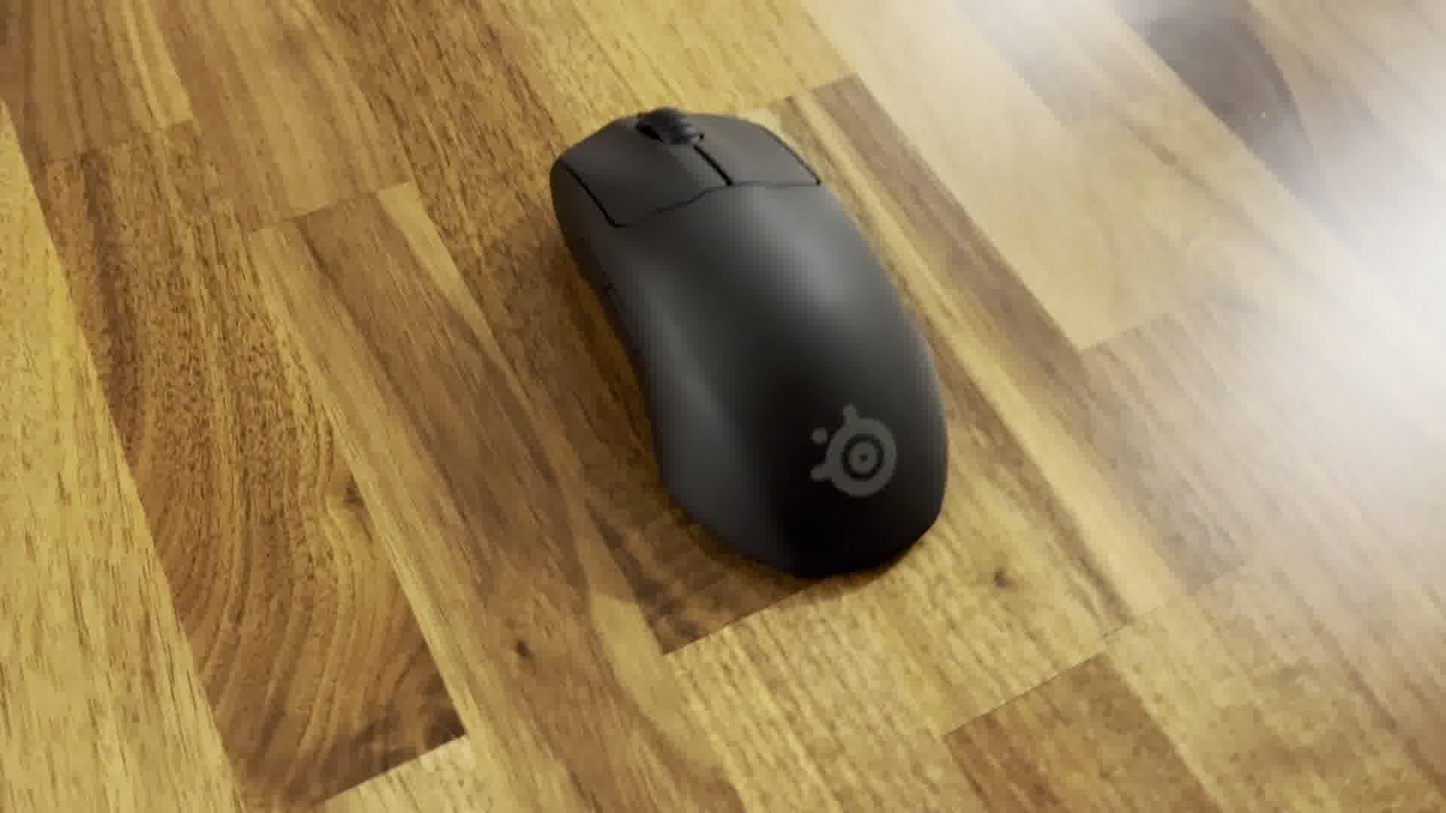steel-series: (544, 96, 953, 583)
